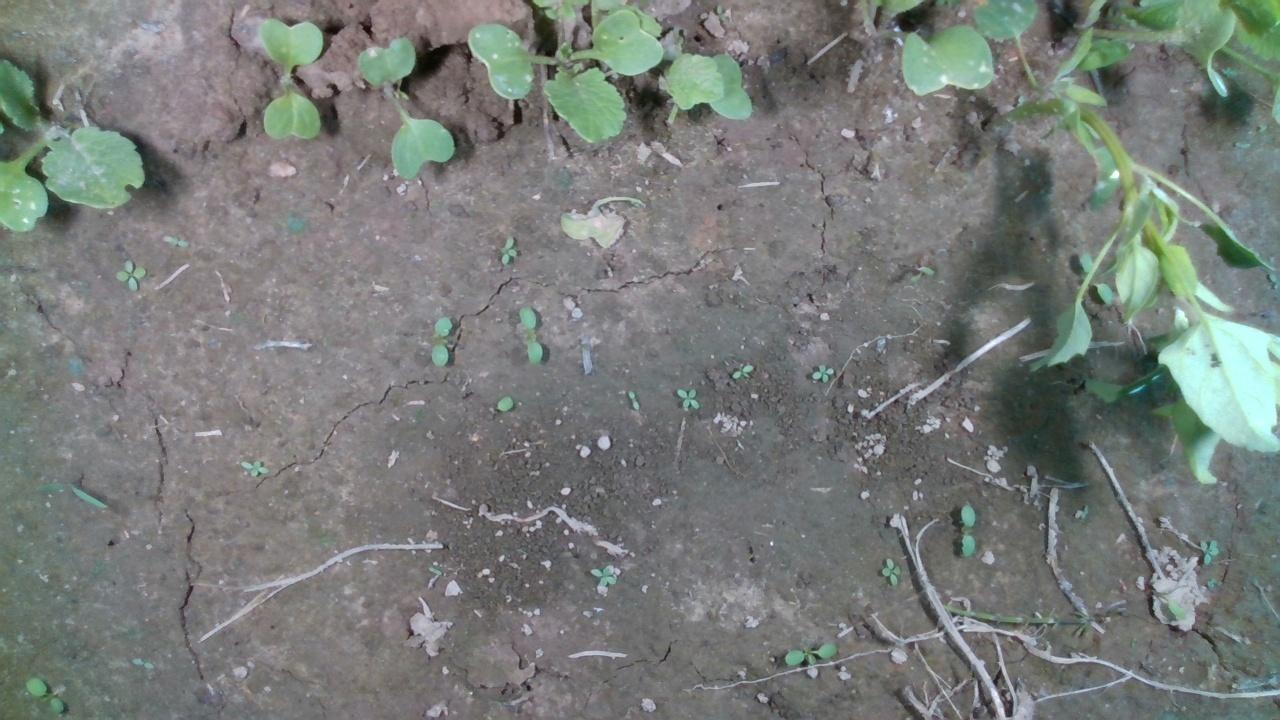weed: (516, 305, 543, 366), (22, 675, 64, 714), (780, 641, 836, 667), (112, 256, 145, 290), (431, 314, 451, 366), (958, 502, 975, 558), (497, 234, 518, 265), (878, 556, 900, 585), (674, 385, 700, 409), (589, 564, 616, 587), (1198, 536, 1219, 565), (810, 361, 833, 382), (159, 234, 190, 247), (730, 362, 754, 378), (625, 388, 640, 410)
